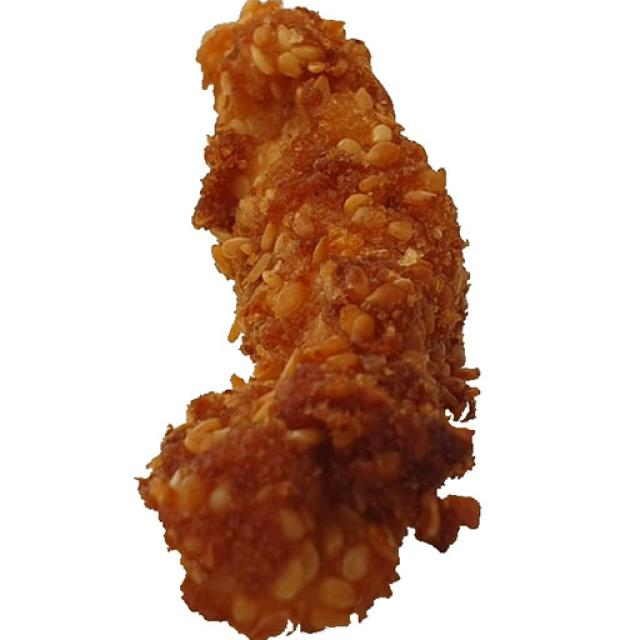Frango: (106, 0, 528, 640)
